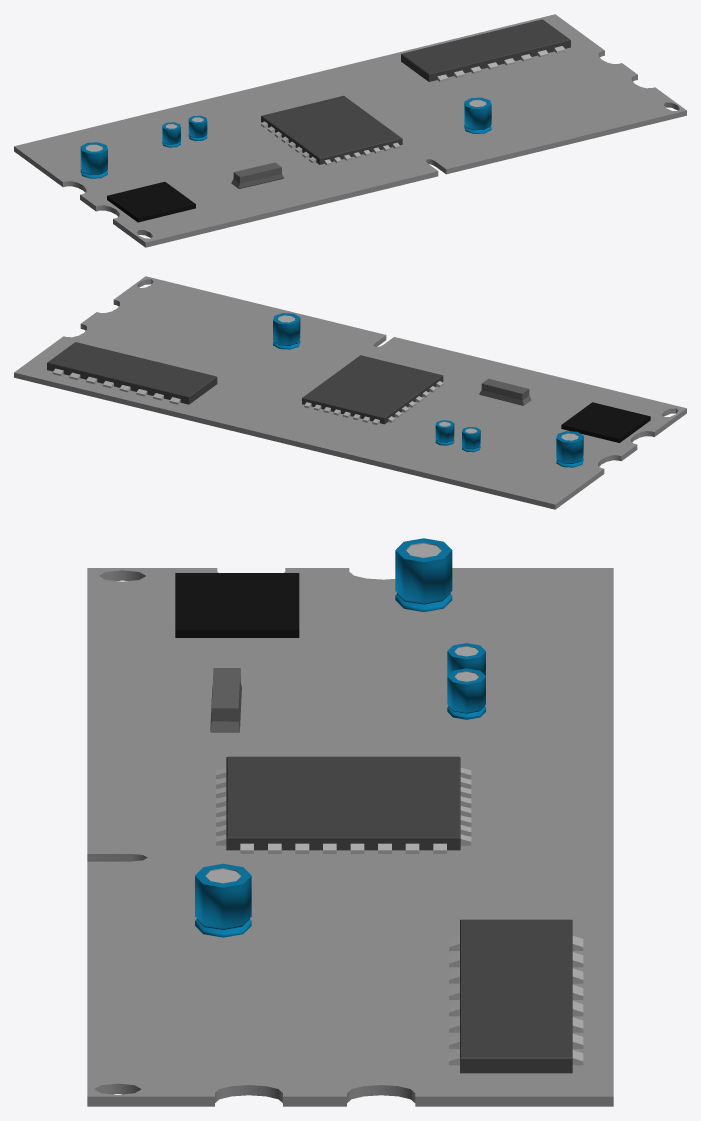
File: schedarete.fbx
The picture shows the model from 3 angles, top to bottom: view 1: azimuth 30°, elevation 25°; view 2: azimuth 150°, elevation 25°; view 3: azimuth 270°, elevation 25°; orthographic projection. The views are drawn at different scales.
Visible parts, largest first — view 1: ram; view 2: ram; view 3: ram.
Boxes of the visible parts, left/top/right/bottom form: ram: left=14, top=14, right=686, bottom=247; ram: left=14, top=276, right=686, bottom=509; ram: left=87, top=538, right=613, bottom=1106.
Size of the model in its own units: 713 by 37.88 by 300.
